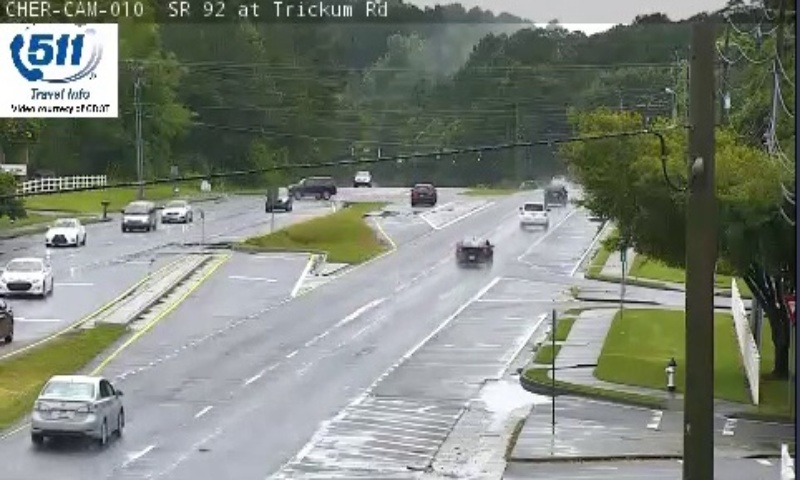car: (31, 375, 122, 434), (455, 236, 492, 267), (521, 202, 547, 229)
